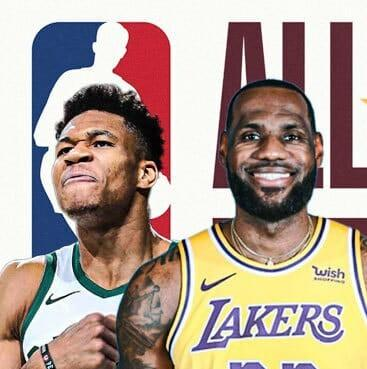feliz: (222, 73, 326, 229)
raiva: (44, 78, 171, 229)
